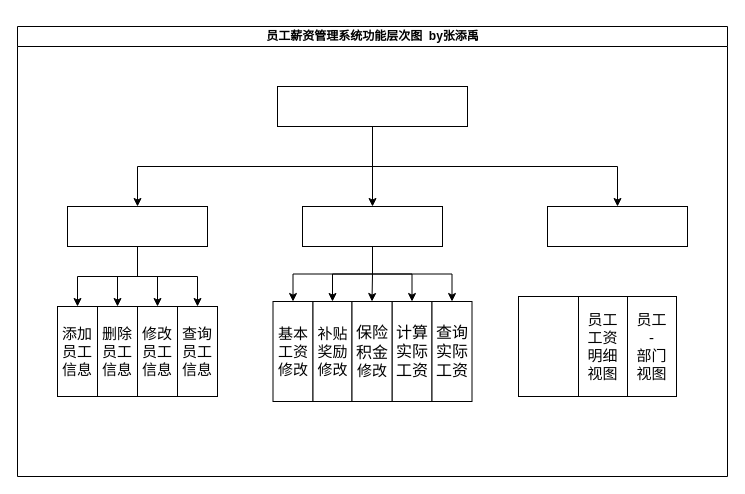
Some shapes in this 745 by 494 pixel diagram are drawn without their labels. The shapes that lost their labels are listed below. From the top down, each one's centre as x and y in pixels, then its label:
At (372,106): "员工薪资管理系统".
At (137,226): "员工信息管理".
At (372,226): "薪资管理".
At (617,226): "统计分析".
At (548,346): "最高 最低 平均 工资".
